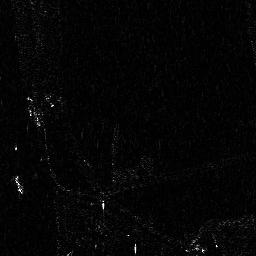ship: (13, 172, 25, 195)
